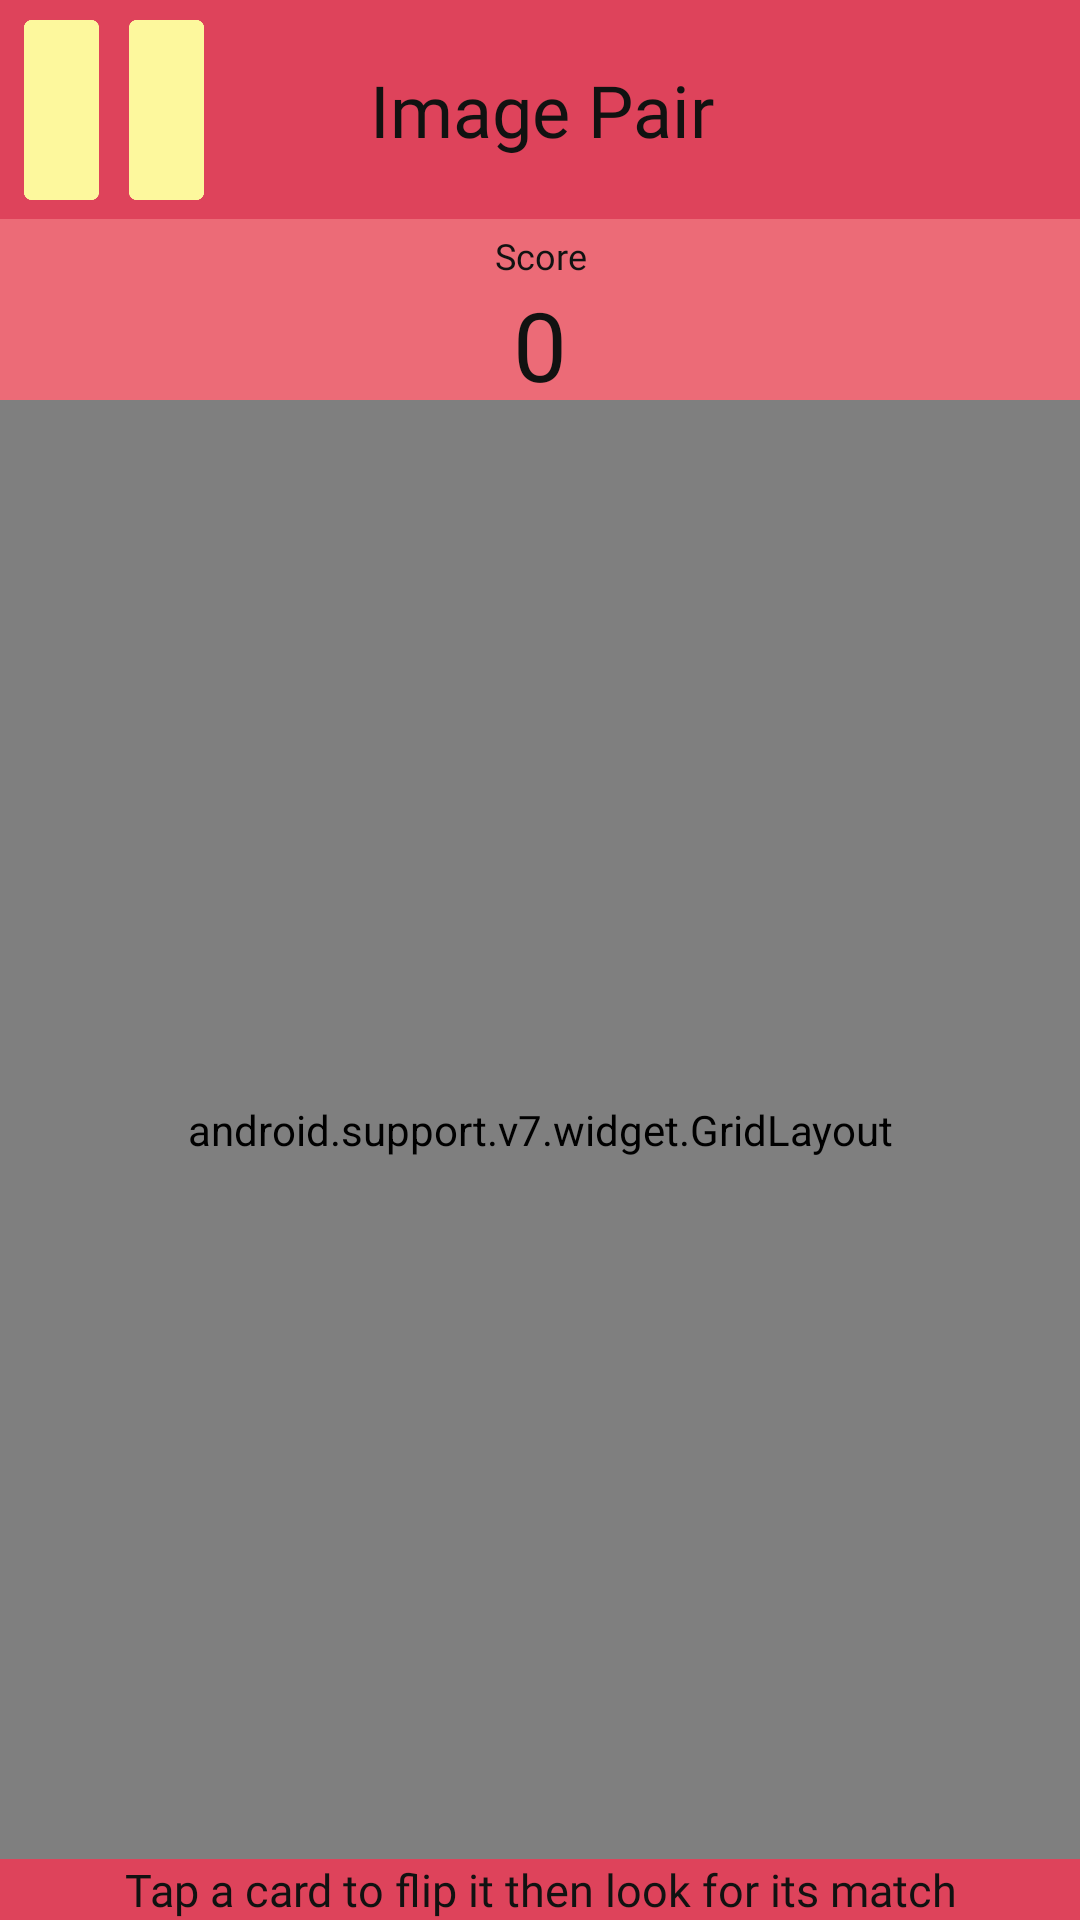

Icon click points for this 1080 x 1920 phone screenshot, format [x,y]:
pause: [114,110]
